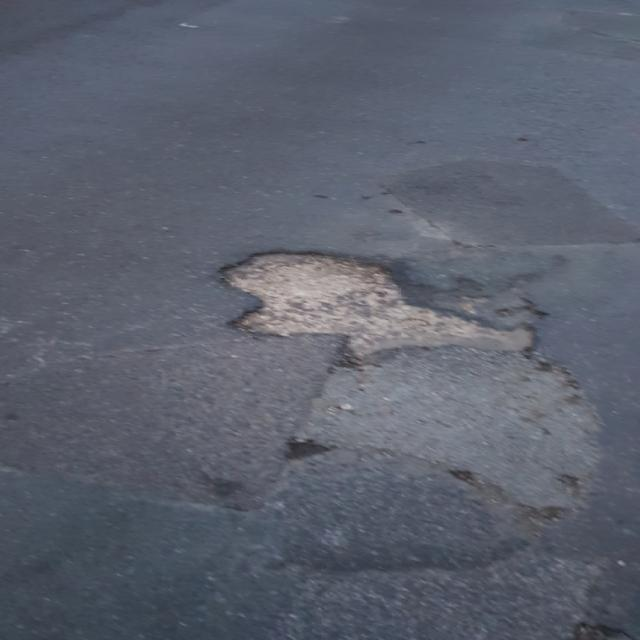pothole: (207, 246, 539, 371)
